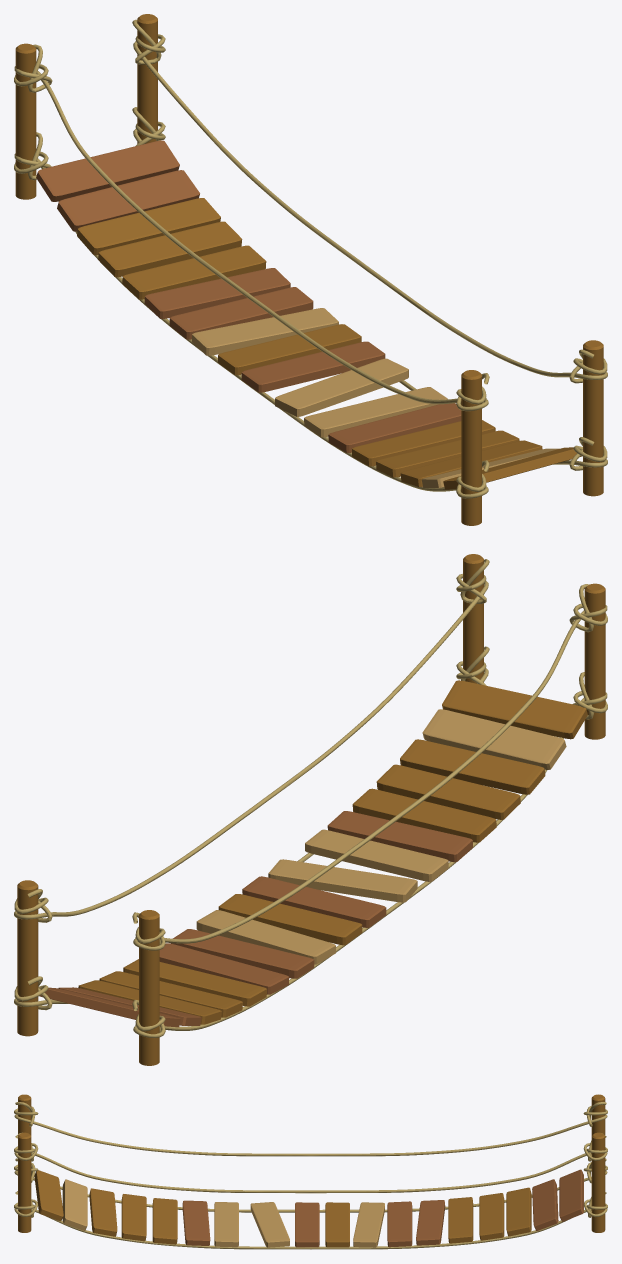
File: Bridge_Normal.fbx
The picture shows the model from 3 angles, top to bottom: view 1: azimuth 30°, elevation 25°; view 2: azimuth 150°, elevation 25°; view 3: azimuth 270°, elevation 25°; orthographic projection. The views are drawn at different scales.
Parts seen in each view (by area): view 1: Brücke_Normal; view 2: Brücke_Normal; view 3: Brücke_Normal.
Boxes of the visible parts, <box> form: Brücke_Normal: <box>14,14,607,525</box>; Brücke_Normal: <box>14,554,607,1065</box>; Brücke_Normal: <box>14,1094,607,1249</box>.
Bounding box in the file's own units: 304 × 351 × 1643.
